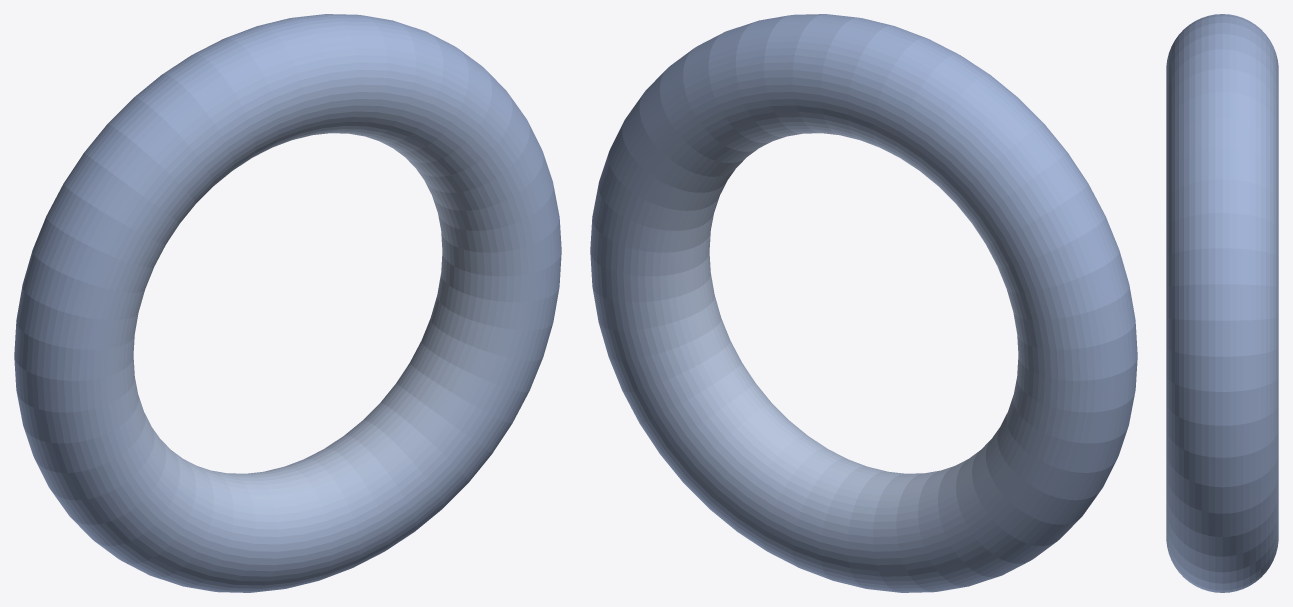
The picture shows the model from 3 angles, left to right: view 1: azimuth 30°, elevation 25°; view 2: azimuth 150°, elevation 25°; view 3: azimuth 270°, elevation 25°; orthographic projection. The views are drawn at different scales.
Visible parts, largest first — view 1: world; view 2: world; view 3: world.
Boxes of the visible parts, x1=… form: world: x1=14, y1=14, x2=561, y2=592; world: x1=590, y1=14, x2=1137, y2=592; world: x1=1166, y1=14, x2=1278, y2=592.
Size of the model in its own units: 24 by 23.95 by 4.66.
